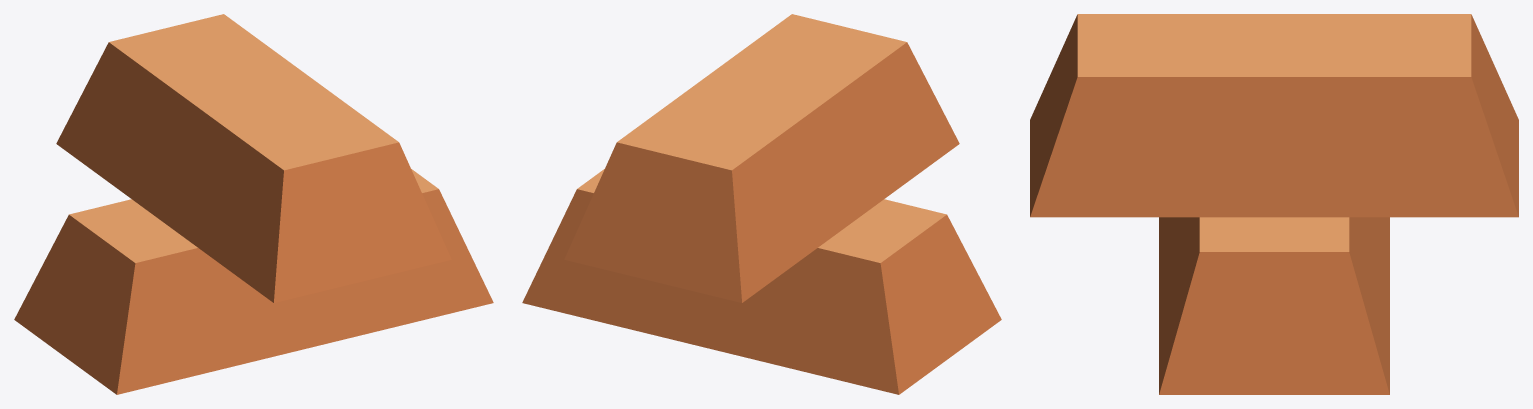
Rendered from item_copper.glb.
3 renders of one model, left to right at view 1: azimuth 30°, elevation 25°; view 2: azimuth 150°, elevation 25°; view 3: azimuth 270°, elevation 25°, orthographic. The views are drawn at different scales.
Visible parts, largest first — view 1: item_copper; view 2: item_copper; view 3: item_copper.
Boxes of the visible parts, <box> form: item_copper: <box>14,14,493,394</box>; item_copper: <box>522,14,1001,394</box>; item_copper: <box>1030,14,1518,394</box>.
Bounding box in the file's own units: 0.72 × 0.4 × 0.72.
